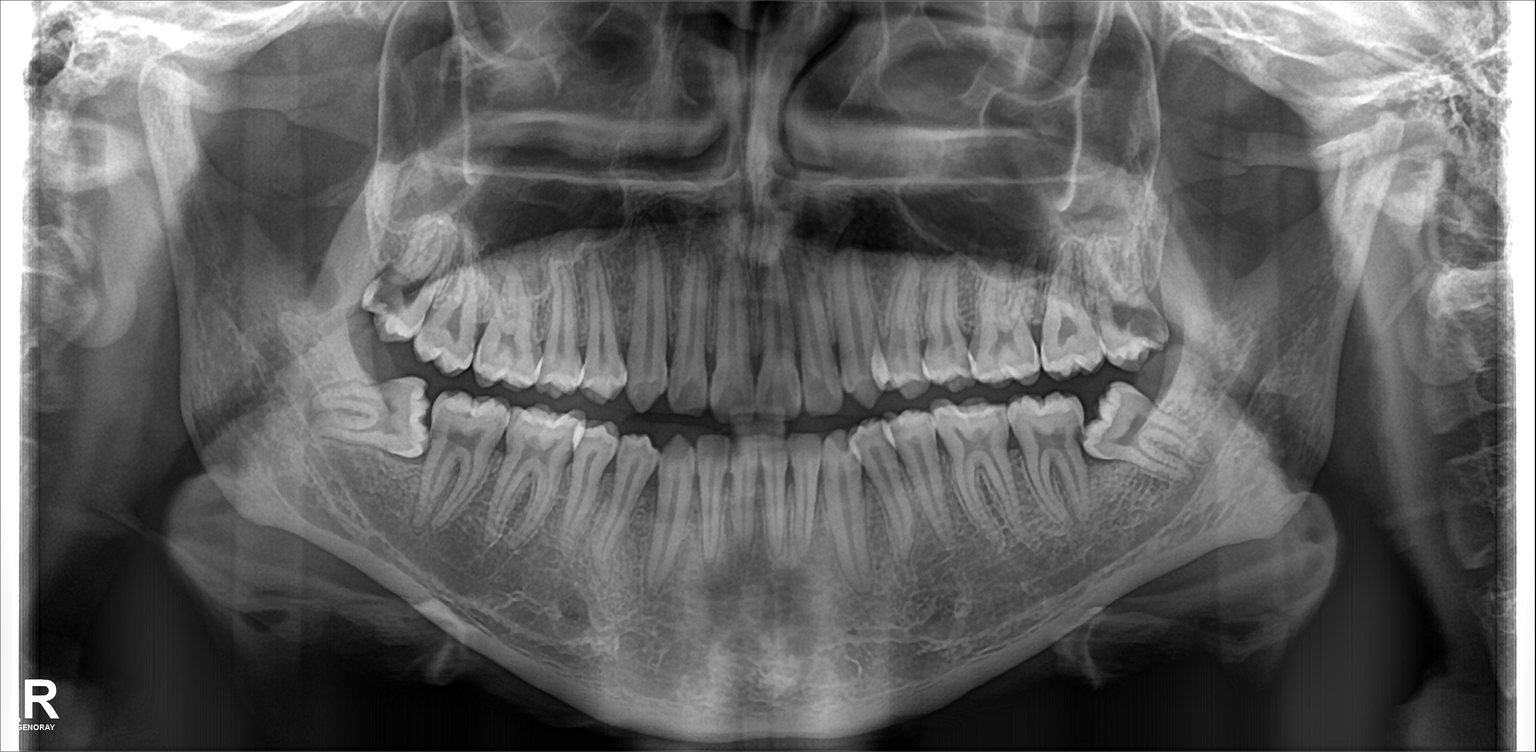Dental Caries: (365, 264, 425, 311), (1110, 298, 1170, 341)
Impacted Third Molar: (313, 387, 434, 454), (1095, 385, 1186, 465)
